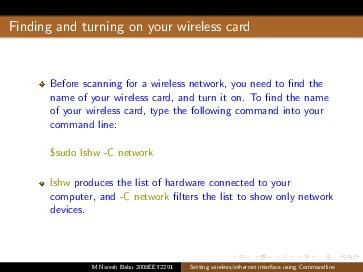subtitle: (89, 259, 338, 272)
title: (32, 72, 343, 222), (7, 17, 255, 39)
